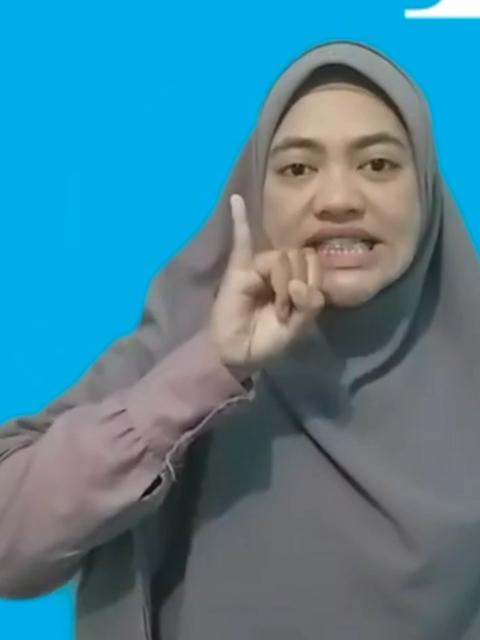I: (207, 192, 325, 380)
